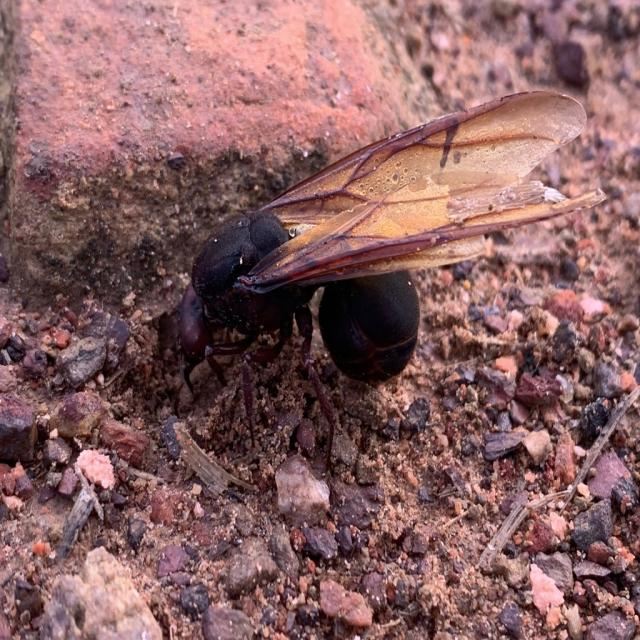Alive-Female-Alate: (142, 88, 607, 474)
